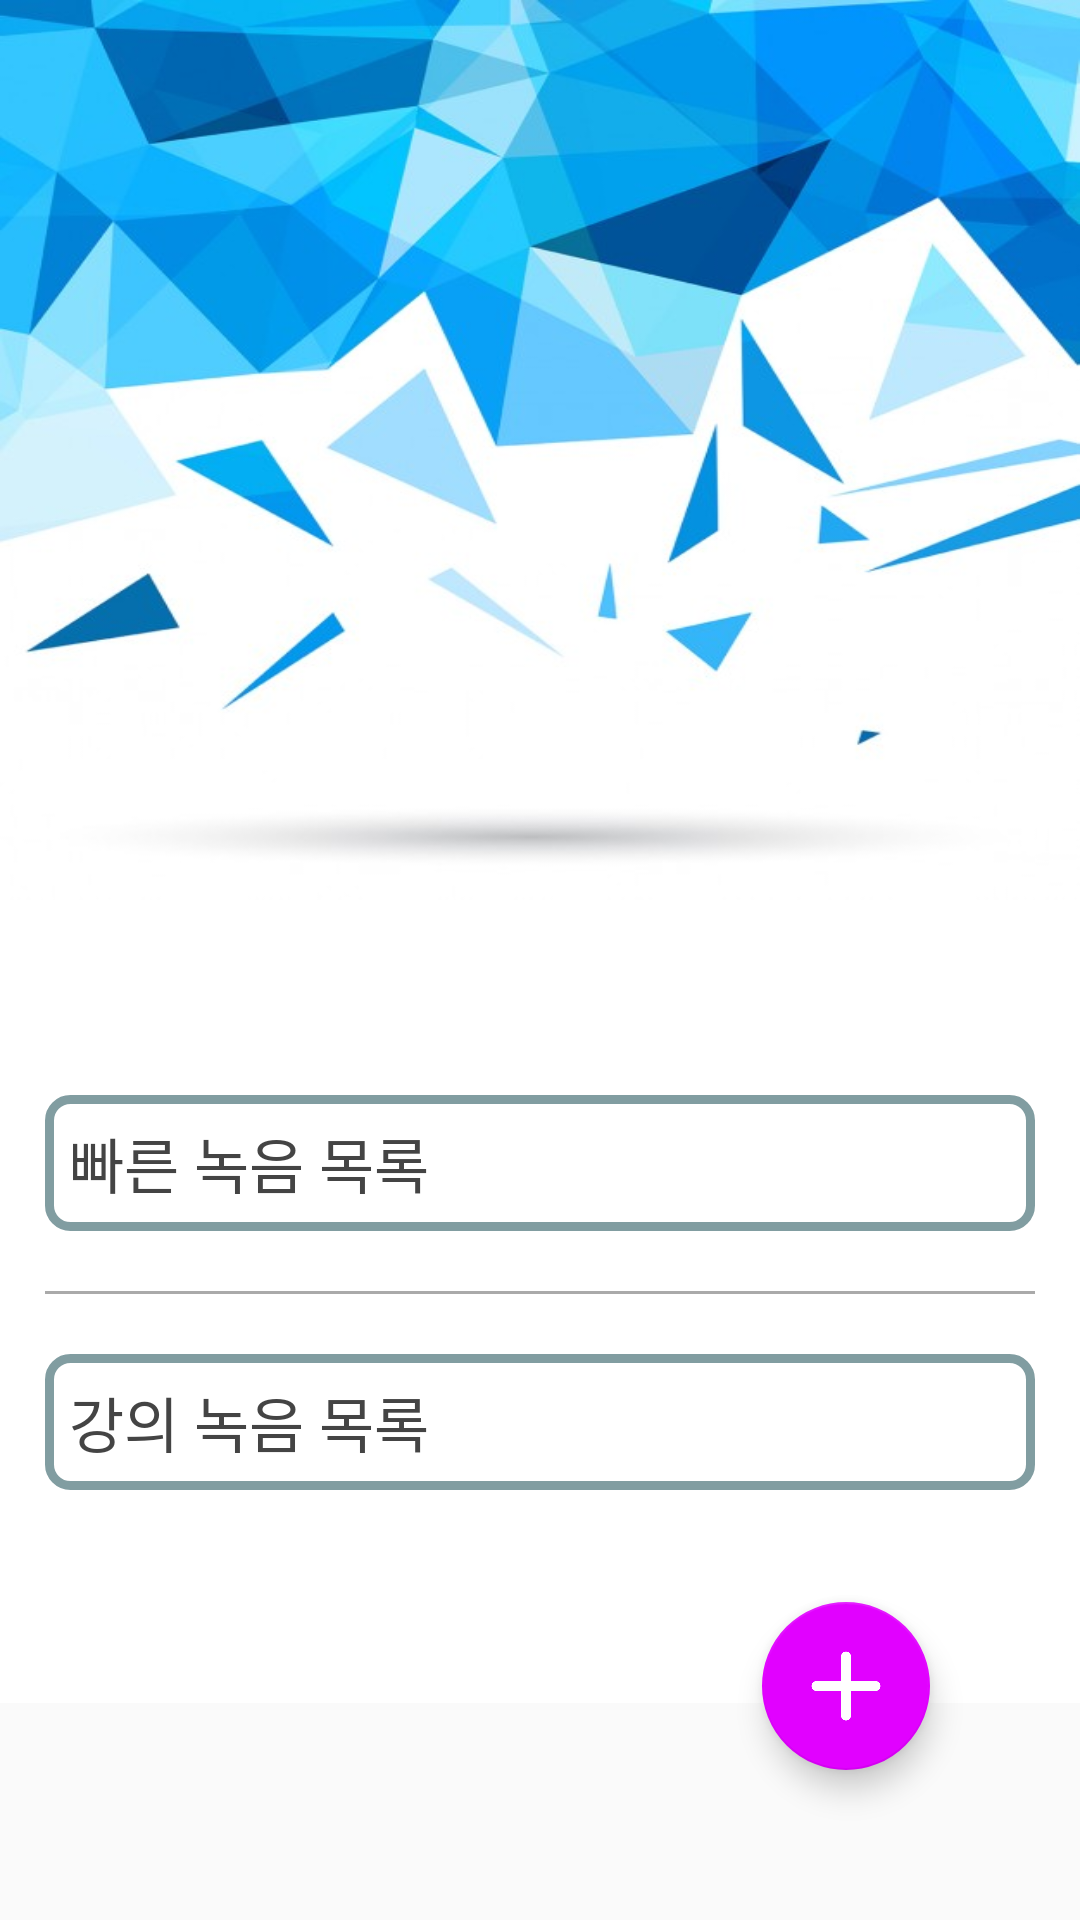

Icons on this 1080w x 1920h Android screen, each with the point to tap as point (x, y):
plus: point (846, 1686)
